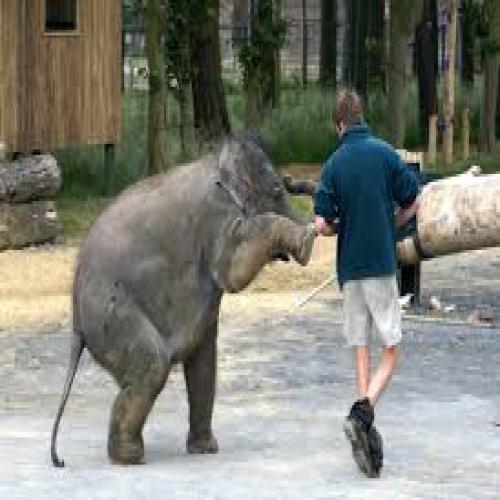asian_elephant-endangered: (48, 142, 318, 467)
